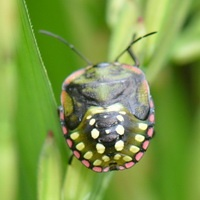insect: (40, 30, 155, 171)
